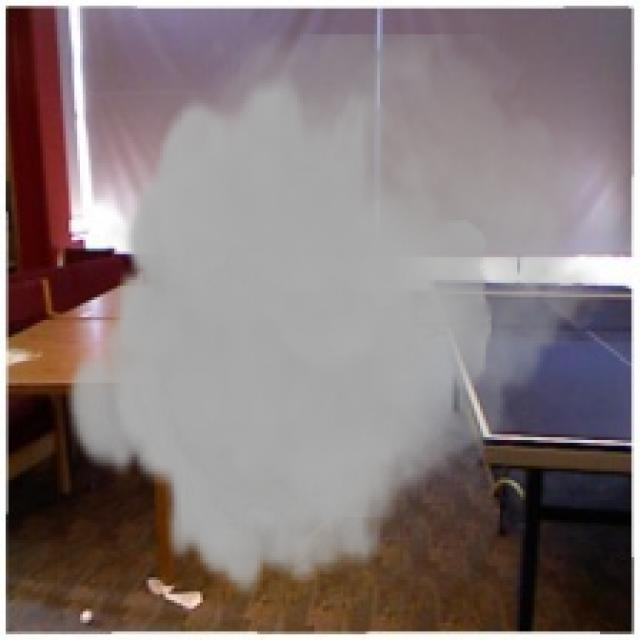smoke: (63, 34, 608, 597)
